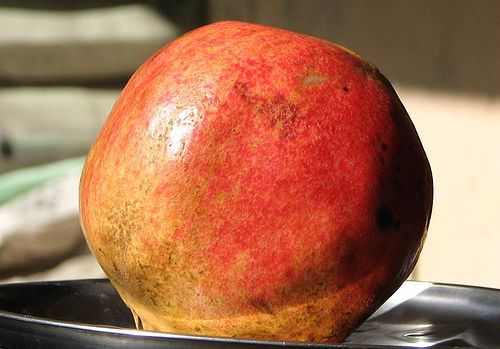pomogranate: (84, 18, 441, 346)
